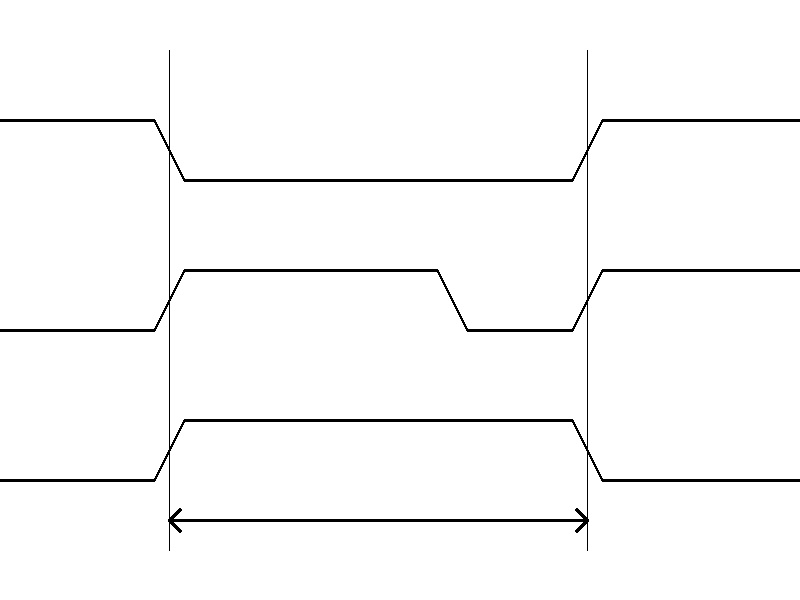double_arrow: (169, 505, 587, 535)
